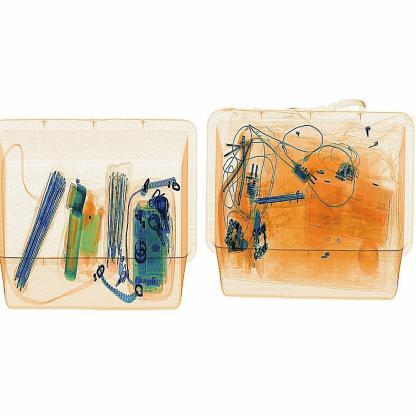pliers: (247, 183, 310, 217)
